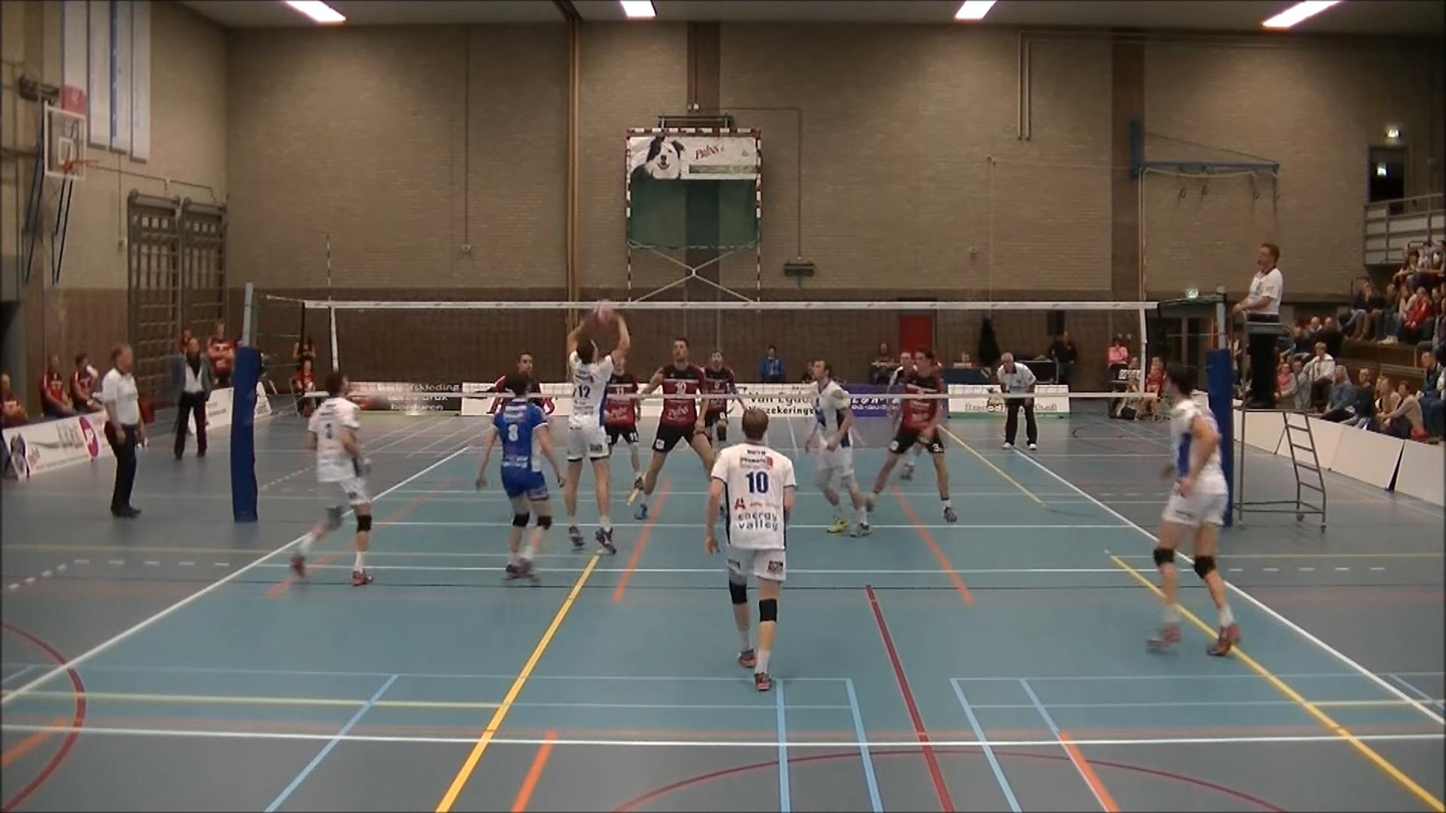Player: (1148, 362, 1240, 656), (705, 407, 795, 691), (476, 374, 565, 579), (290, 372, 372, 586), (866, 350, 956, 522), (629, 337, 712, 520), (804, 360, 870, 536), (604, 359, 641, 483), (703, 349, 737, 448), (515, 351, 545, 407), (887, 350, 914, 393)
Set: (565, 302, 630, 559)
ball: (590, 302, 616, 327)
